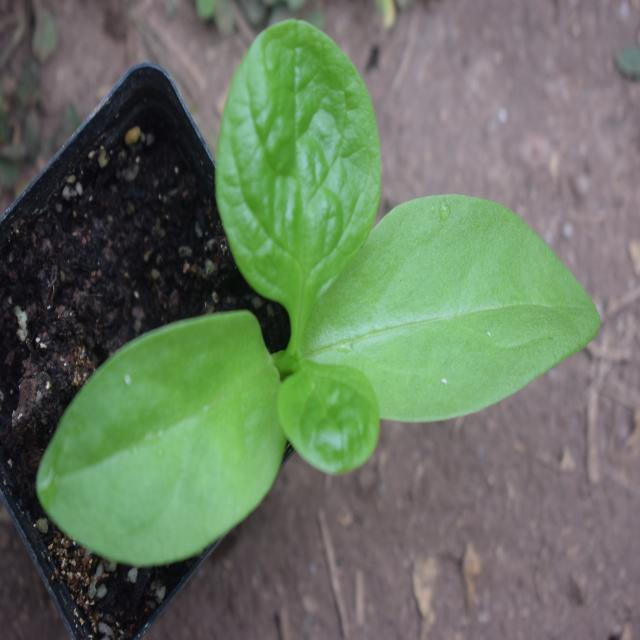Ceylon spinach: (56, 47, 591, 563)
